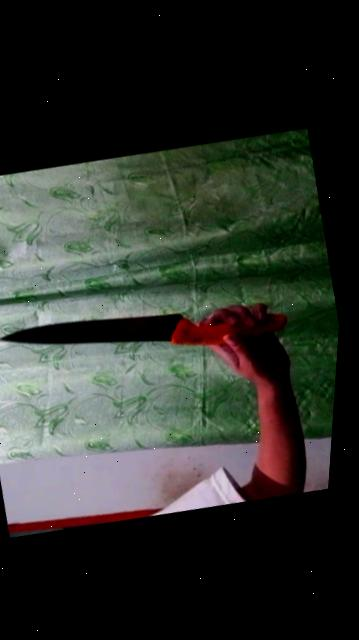long knife: (0, 237, 301, 417)
